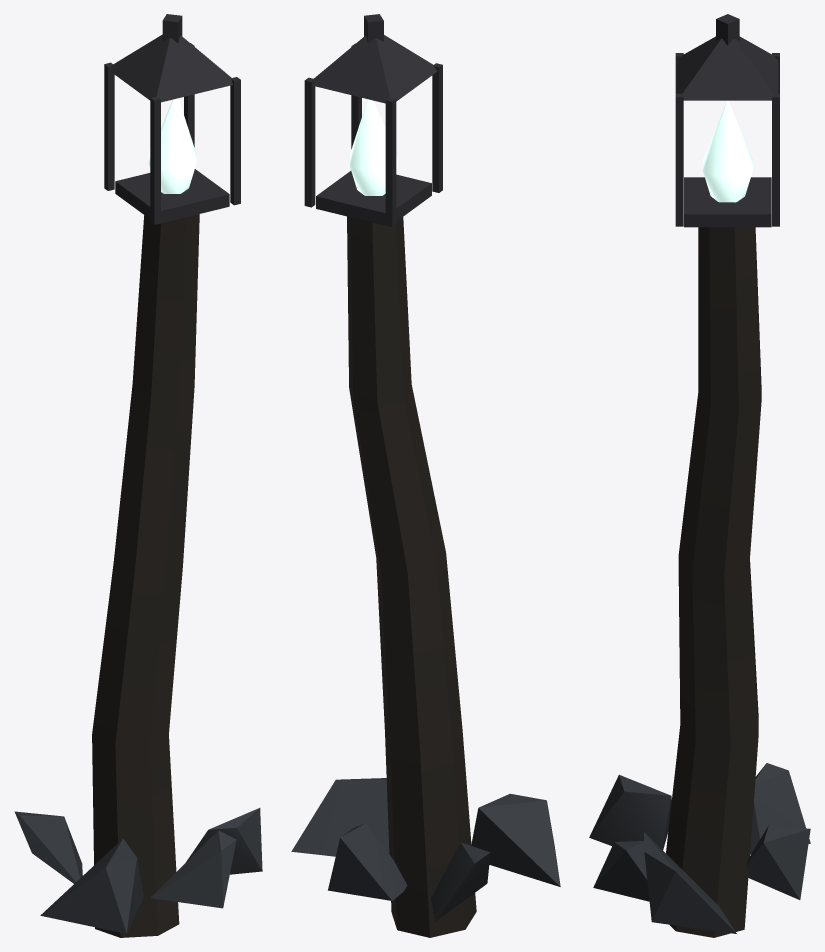
Rendered from SoulLantern.fbx.
3 views of the same model, side by side, from view 1: azimuth 30°, elevation 25°; view 2: azimuth 150°, elevation 25°; view 3: azimuth 270°, elevation 25° (orthographic). The views are drawn at different scales.
Parts seen in each view (by area): view 1: SoulLantern; view 2: SoulLantern; view 3: SoulLantern.
Boxes of the visible parts, x1,y1,x2,y2 form: SoulLantern: [14, 14, 262, 937]; SoulLantern: [291, 14, 560, 937]; SoulLantern: [589, 14, 810, 937].
Bounding box in the file's own units: 0.5964 × 2.15 × 0.4659.
